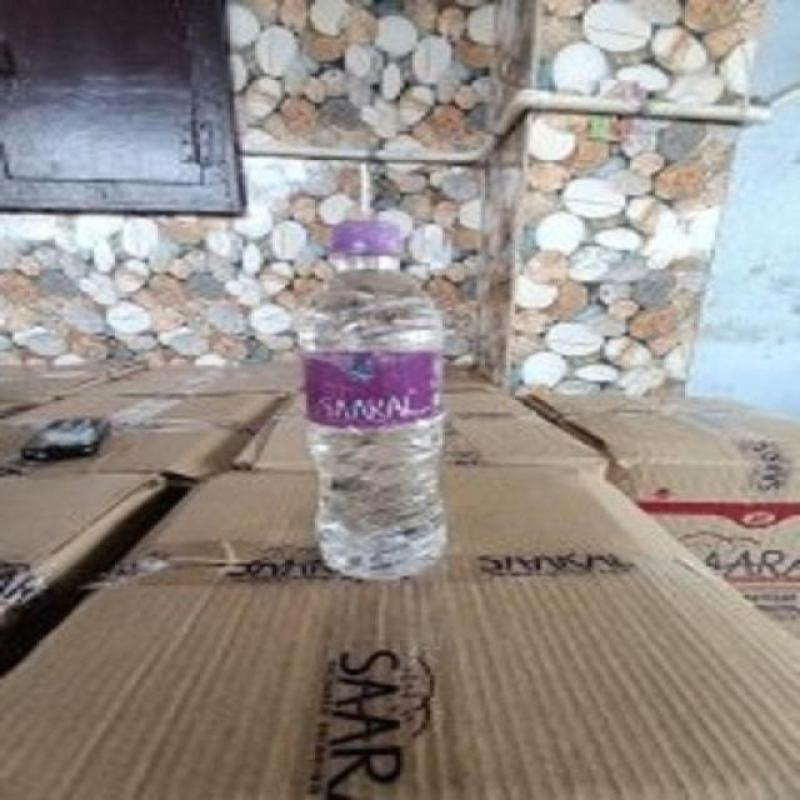botella: (289, 218, 451, 578)
